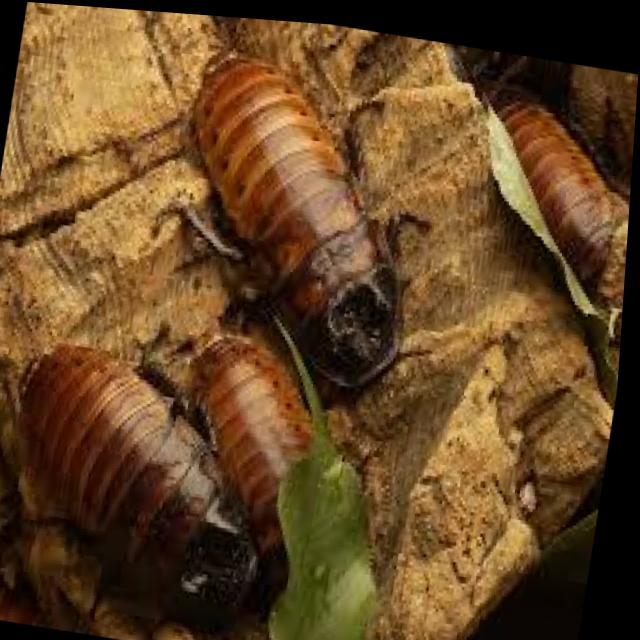Cockroach: (146, 27, 464, 425)
